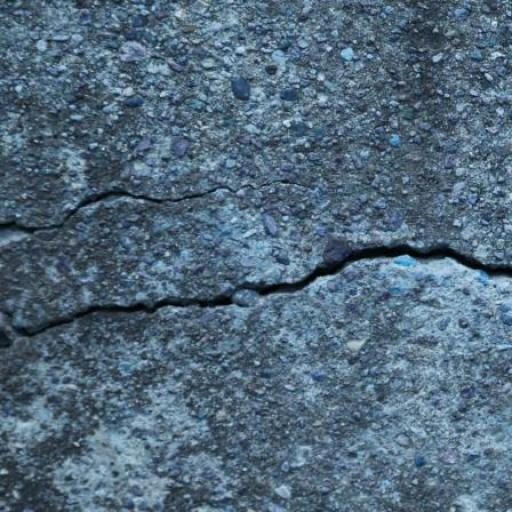spalling: (1, 233, 511, 345), (4, 176, 321, 242)
